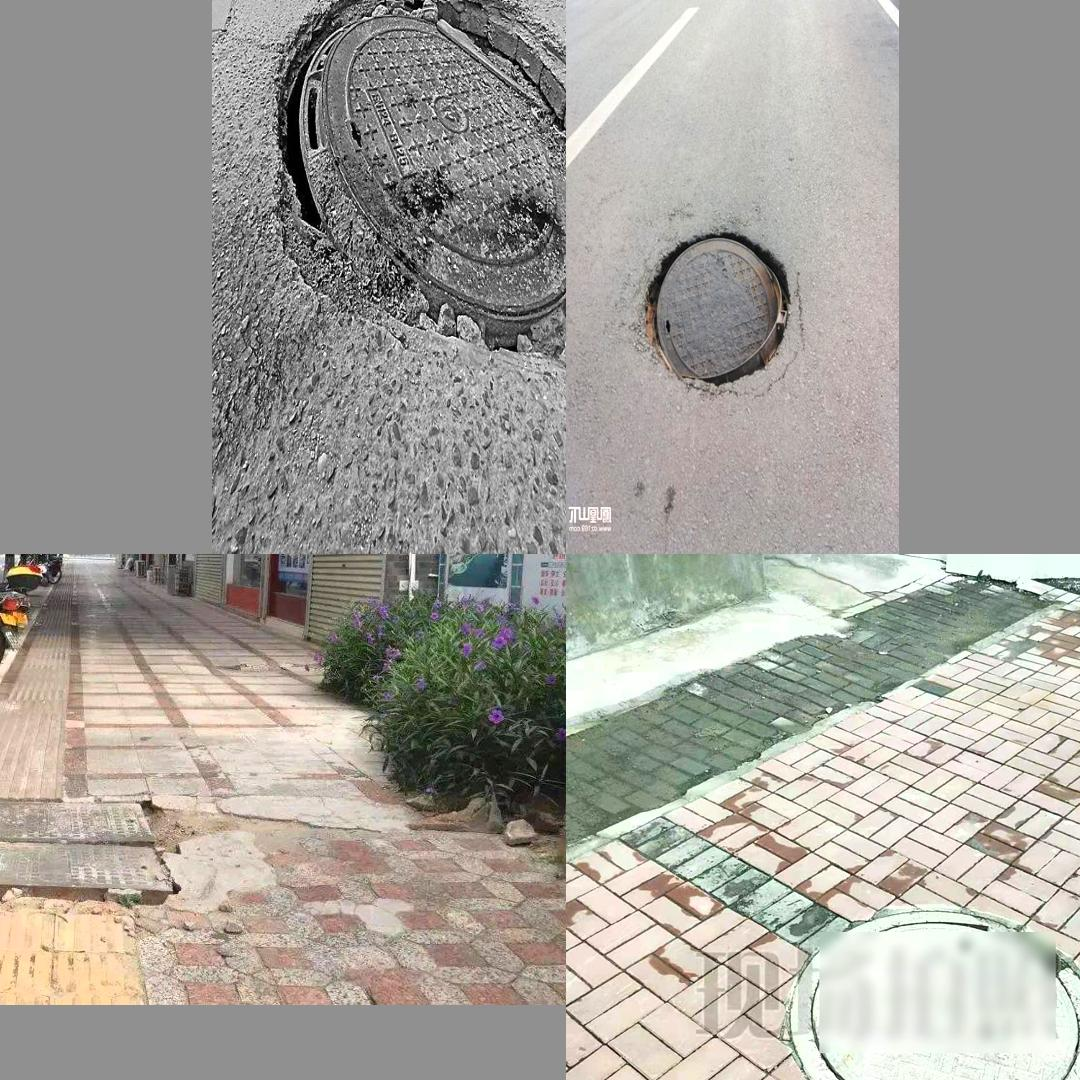circle: (259, 0, 565, 471), (783, 911, 1080, 1080), (0, 771, 220, 953), (626, 218, 813, 400)
